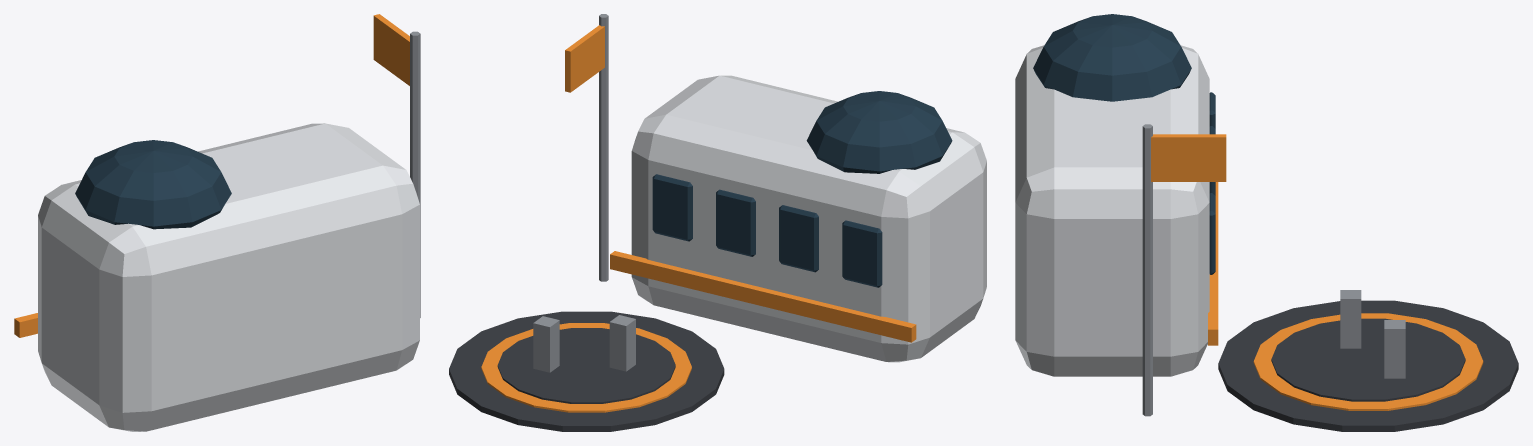
The model's file is academy.glb.
The picture shows the model from 3 angles, left to right: view 1: azimuth 30°, elevation 25°; view 2: azimuth 150°, elevation 25°; view 3: azimuth 270°, elevation 25°; orthographic projection. The views are drawn at different scales.
Parts seen in each view (by area): view 1: academy; view 2: academy; view 3: academy.
Part boxes in pixels (x1,y1,x2,y2): academy: (14, 14, 420, 431); academy: (449, 14, 986, 431); academy: (1015, 14, 1518, 431).
Size of the model in its own units: 2.66 by 1.8 by 2.85.
